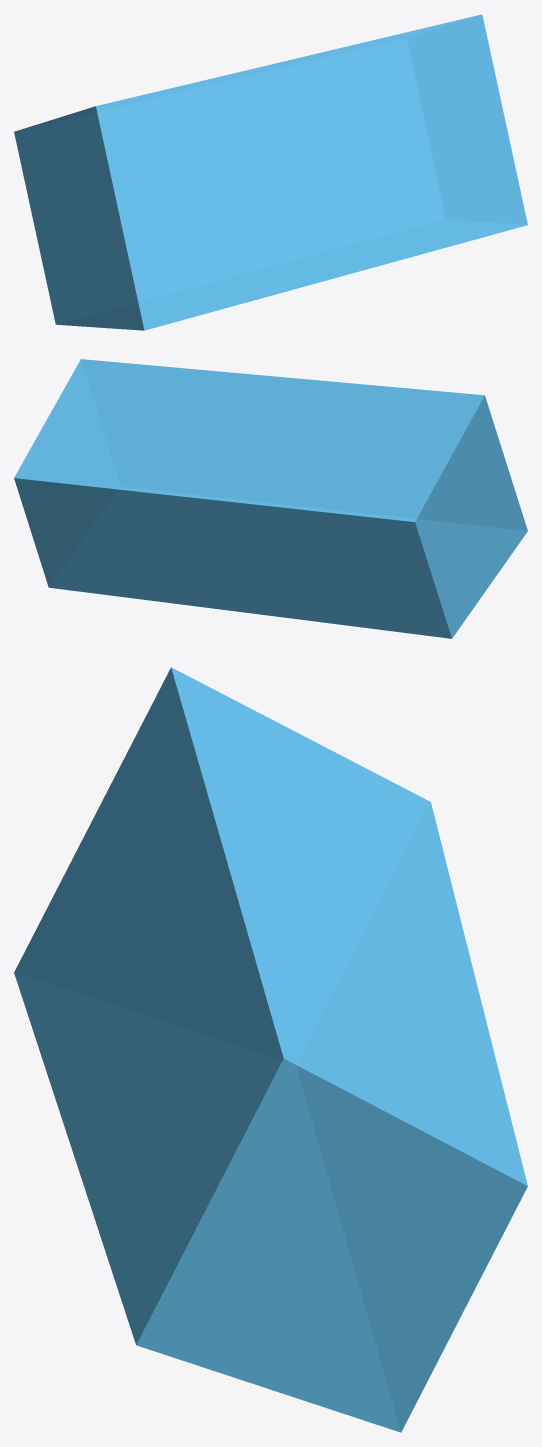
Rendered from Event_421127236_HErechit_40.fbx.
The picture shows the model from 3 angles, top to bottom: view 1: azimuth 30°, elevation 25°; view 2: azimuth 150°, elevation 25°; view 3: azimuth 270°, elevation 25°; orthographic projection. The views are drawn at different scales.
Parts seen in each view (by area): view 1: Model; view 2: Model; view 3: Model.
Boxes of the visible parts, x1,y1,x2,y2 form: Model: [14, 14, 527, 330]; Model: [14, 359, 527, 638]; Model: [14, 667, 527, 1432].
Bounding box in the file's own units: 0.7214 × 0.4369 × 0.4698.
